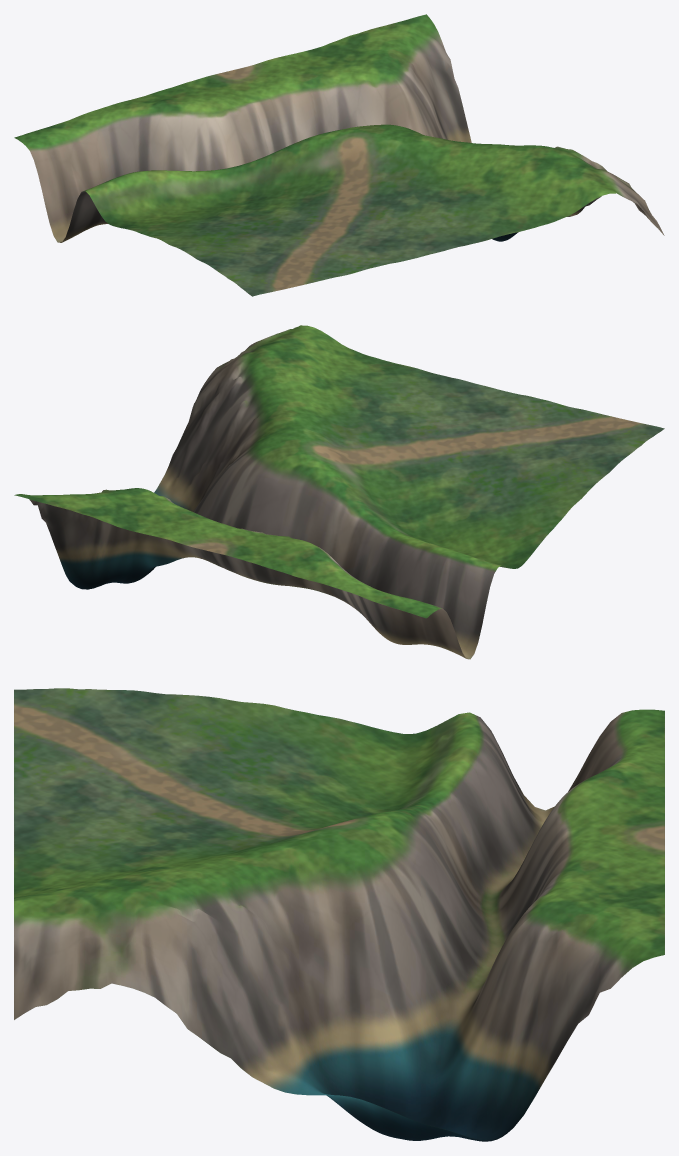
The picture shows the model from 3 angles, top to bottom: view 1: azimuth 30°, elevation 25°; view 2: azimuth 150°, elevation 25°; view 3: azimuth 270°, elevation 25°; orthographic projection. The views are drawn at different scales.
Parts seen in each view (by area): view 1: t128_064; view 2: t128_064; view 3: t128_064.
Part boxes in pixels (x1,y1,x2,y2): t128_064: (14, 14, 664, 296); t128_064: (14, 325, 664, 659); t128_064: (14, 688, 664, 1141).
Bounding box in the file's own units: 64 × 24.28 × 64.
1 material, 1 textured.
